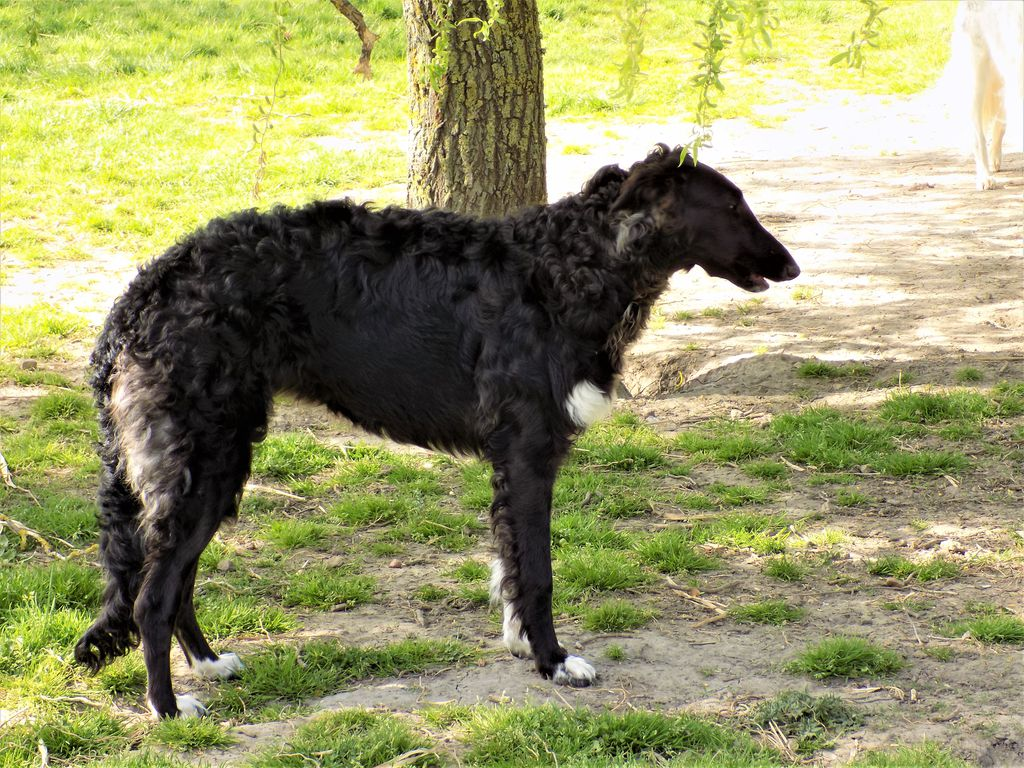borzoi: (37, 142, 819, 727)
